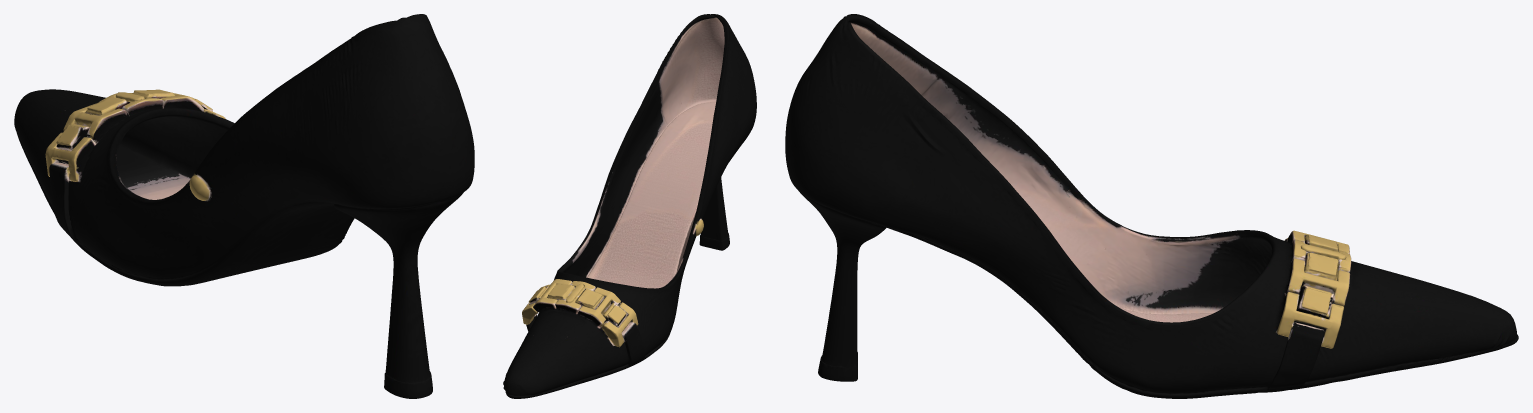
The model's file is hogl-heel.glb.
3 renders of one model, left to right at view 1: azimuth 30°, elevation 25°; view 2: azimuth 150°, elevation 25°; view 3: azimuth 270°, elevation 25°, orthographic. The views are drawn at different scales.
Visible parts, largest first — view 1: tripo_node_b1b3c97f-db87-4109-8c5a-ed78846ef004; view 2: tripo_node_b1b3c97f-db87-4109-8c5a-ed78846ef004; view 3: tripo_node_b1b3c97f-db87-4109-8c5a-ed78846ef004.
Part boxes in pixels (x1,y1,x2,y2): tripo_node_b1b3c97f-db87-4109-8c5a-ed78846ef004: (14, 14, 474, 398); tripo_node_b1b3c97f-db87-4109-8c5a-ed78846ef004: (503, 14, 756, 398); tripo_node_b1b3c97f-db87-4109-8c5a-ed78846ef004: (785, 14, 1518, 398).
Size of the model in its own units: 0.2818 by 0.5241 by 0.9805.
1 material, 1 textured.
